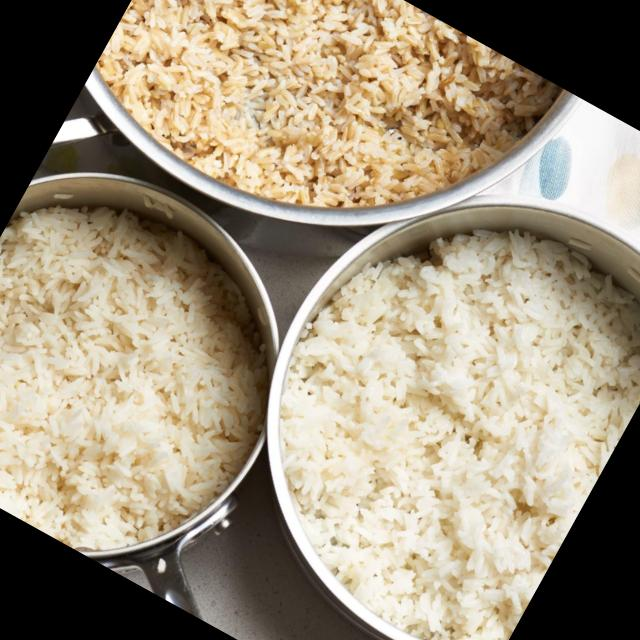rice: (279, 234, 640, 640), (97, 0, 552, 204), (0, 207, 265, 543)
